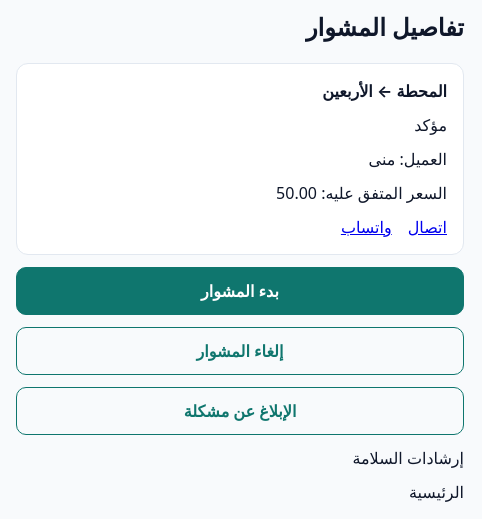
Test: TripDetailView › shows the server state returned by an action
Click the button "بدء المشوار" at (240, 291), box [16,267,464,315]
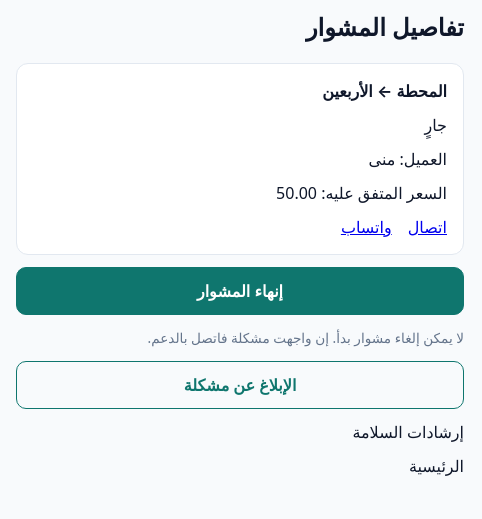
Check: the text with test id "status" reads "جارٍ", box [424,114,447,136]
